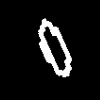chain: (38, 19, 71, 76)
